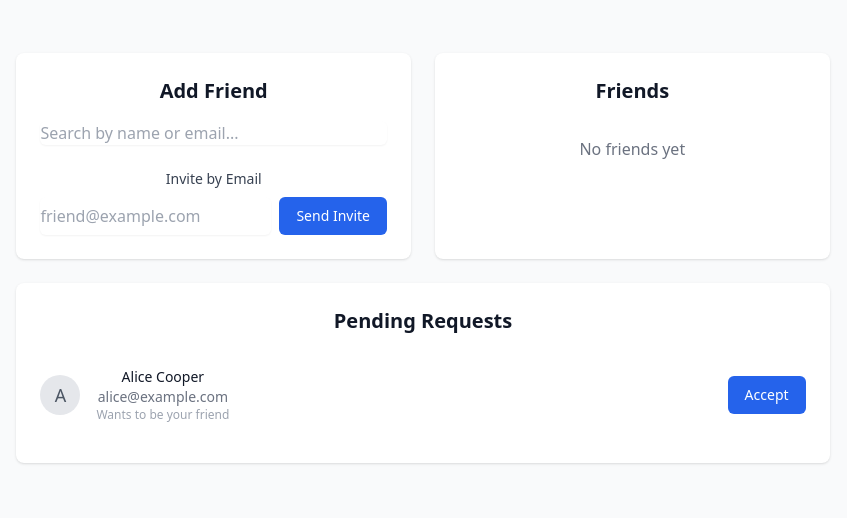
Test: Friends.vue › handles error when accepting friend request
The image size is (847, 518).
// Click Accept button
Click the button "Accept" at coordinates (767, 395), box [728,376,806,414]
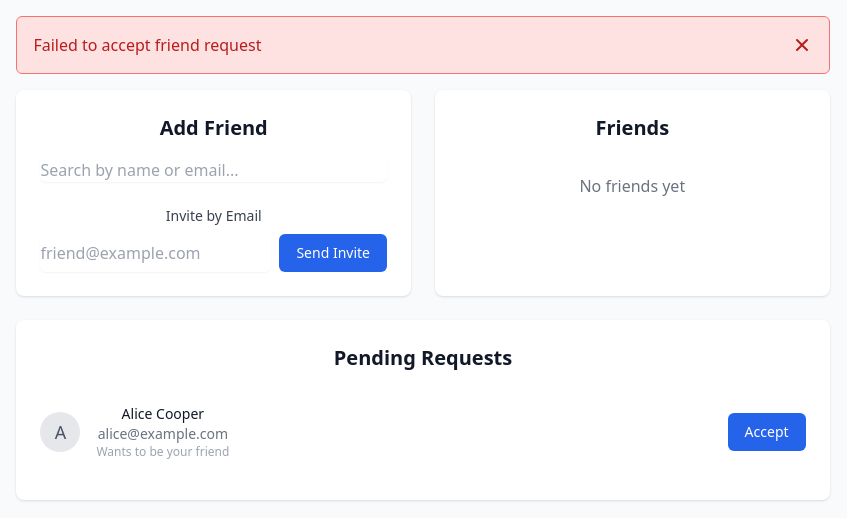
Expected: the text "Failed to accept friend request" is shown, [33,33,261,57]
